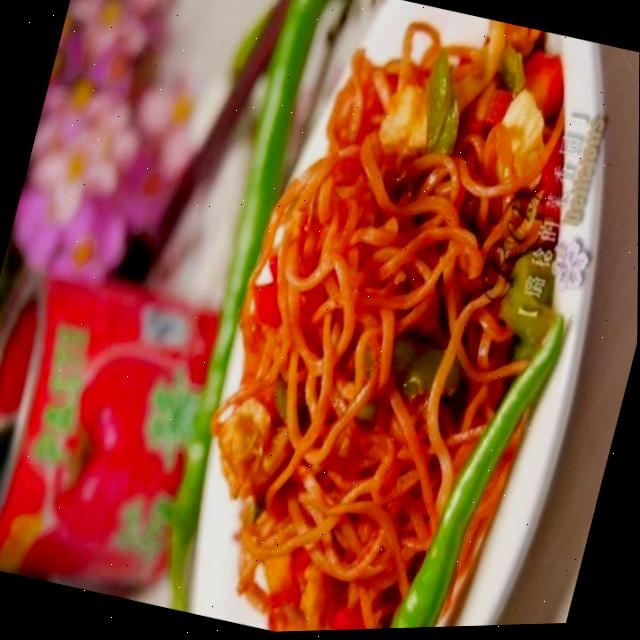面条主食: (134, 0, 640, 637)
